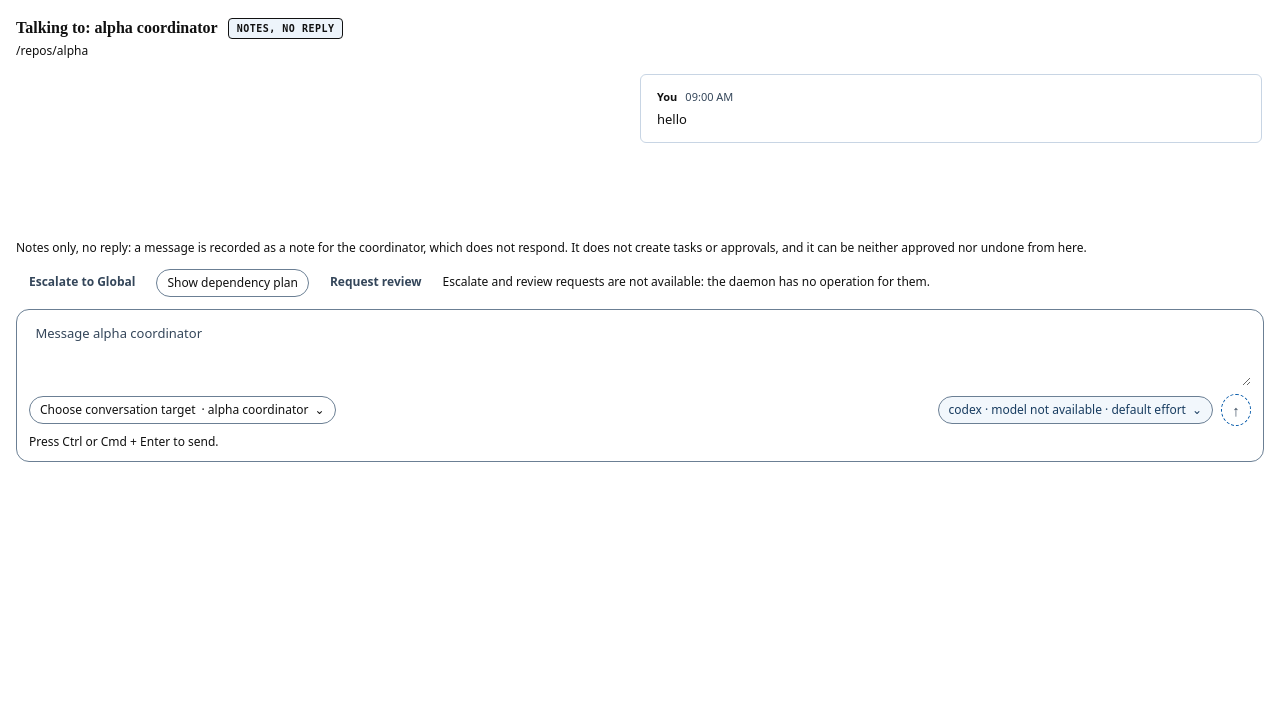
it: workspace view, live (daemon-derived) mode › sends through coordinator.send_message with an idempotency key, then reloads the recorded note
Type "ship it" into the text box labelled "Message alpha coordinator" at (640,353), box [29,320,1251,386]
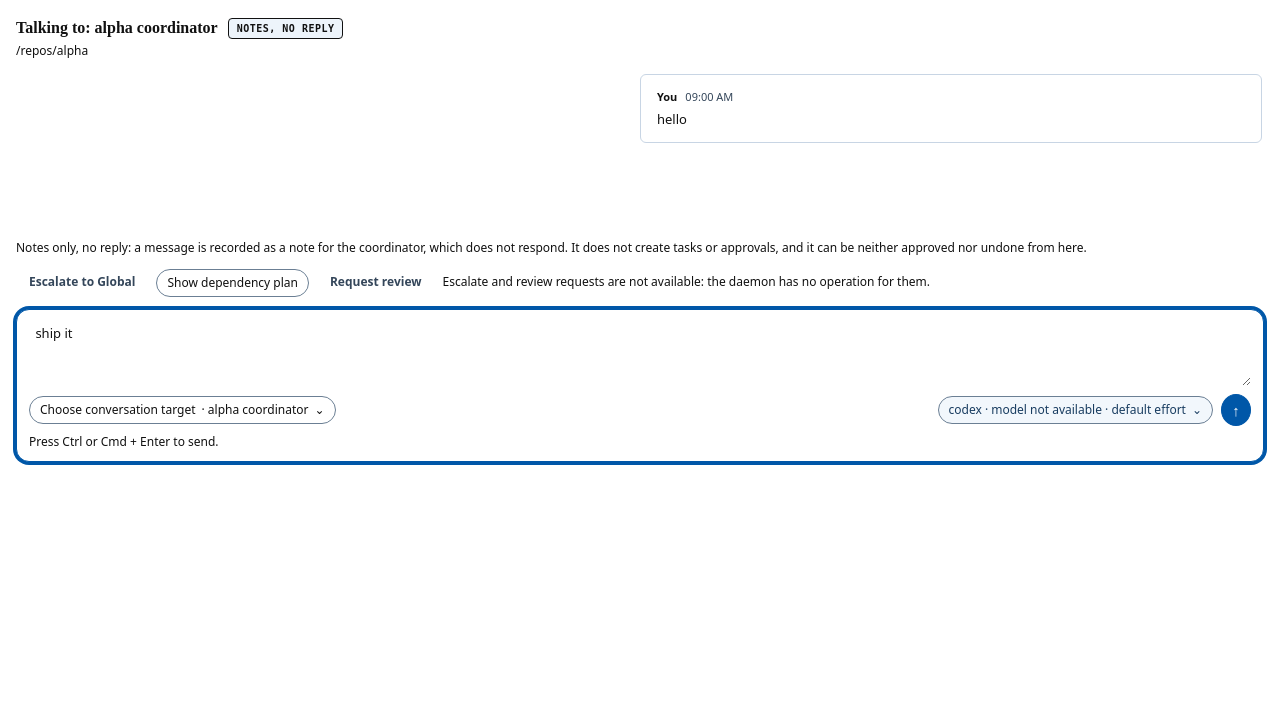
Click the button named "Send message to alpha coordinator" at (1236,410), box [1221,394,1251,426]
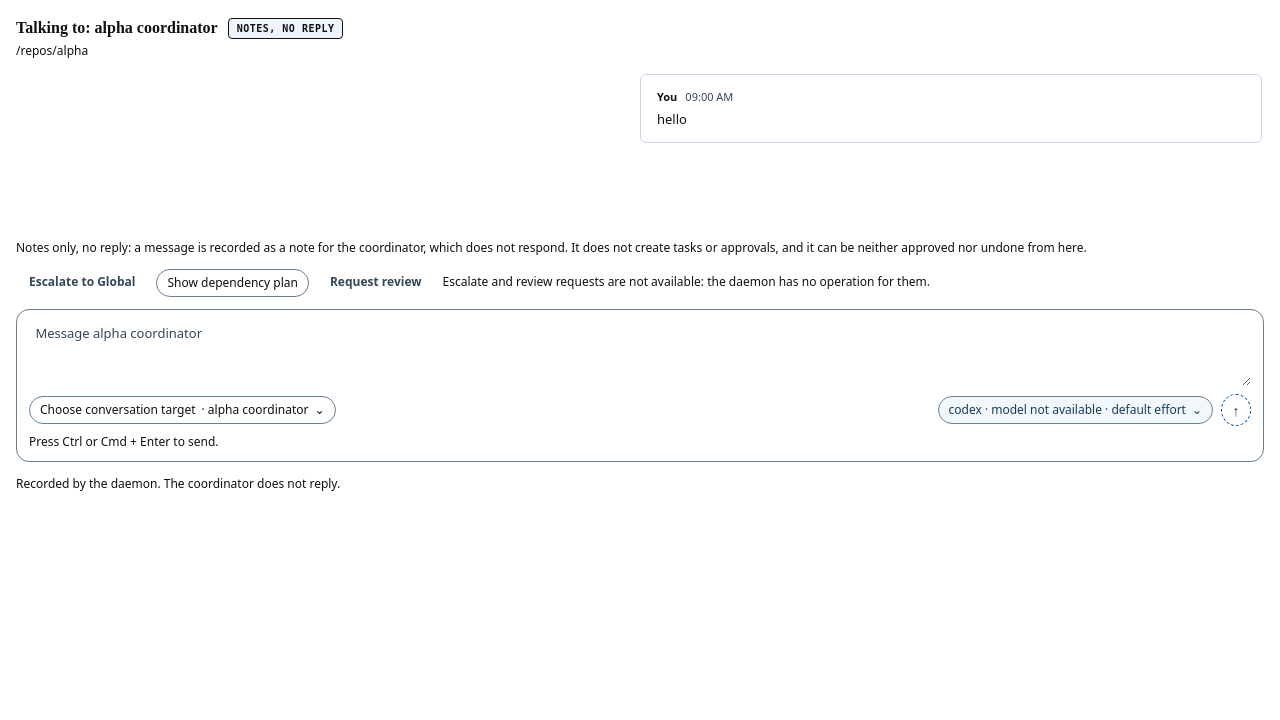
Check: the text "Recorded by the daemon. The coordinator does not reply." is shown, box [16,475,340,492]
Check: the text box labelled "Message alpha coordinator" is empty, box [29,320,1251,386]
